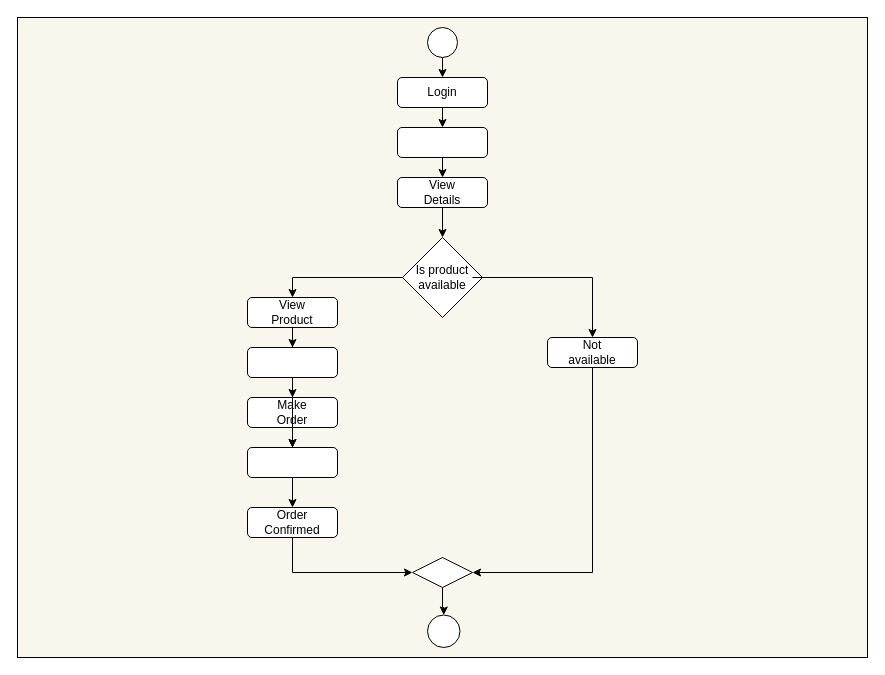
This 885x675 diagram has some shape labels left out. Each missing label, with the box of its shape:
Browse Products: (396, 126, 488, 158)
Chat With Seller: (246, 346, 338, 378)
Payment: (246, 446, 338, 478)
